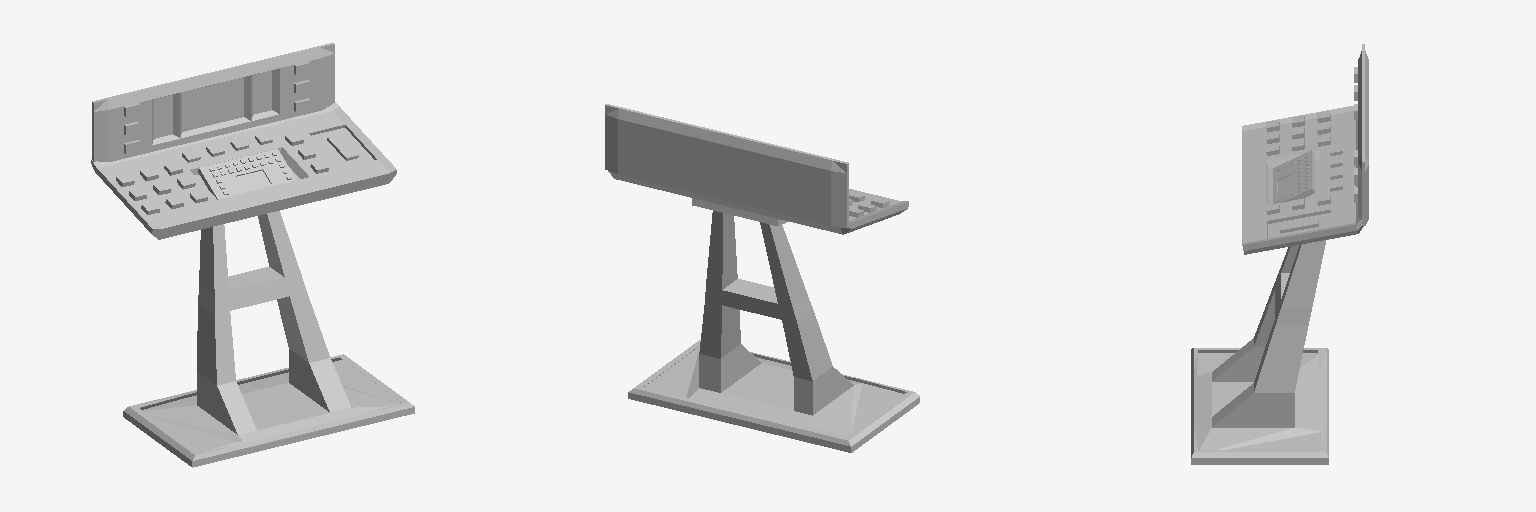
The model's file is ControlPanel.obj.
The picture shows the model from 3 angles: view 1: azimuth 30°, elevation 25°; view 2: azimuth 150°, elevation 25°; view 3: azimuth 270°, elevation 25°; orthographic projection.
Bounding box in the file's own units: 7.08 × 8.47 × 4.46.